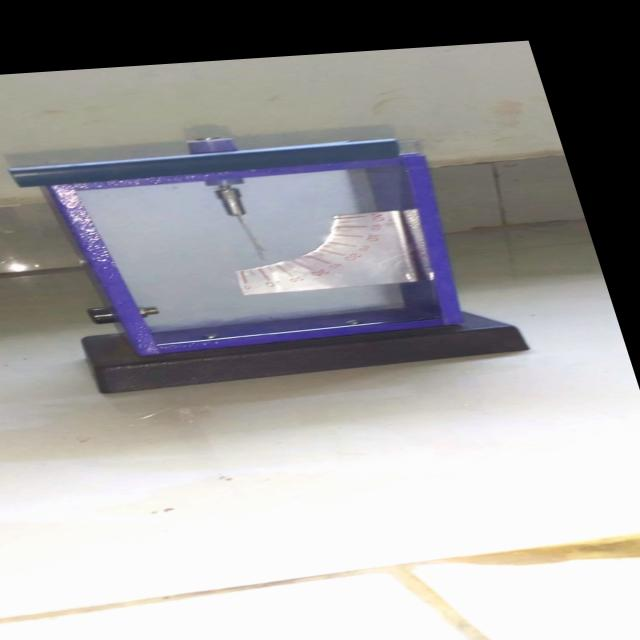Electroscope: (0, 106, 548, 410)
